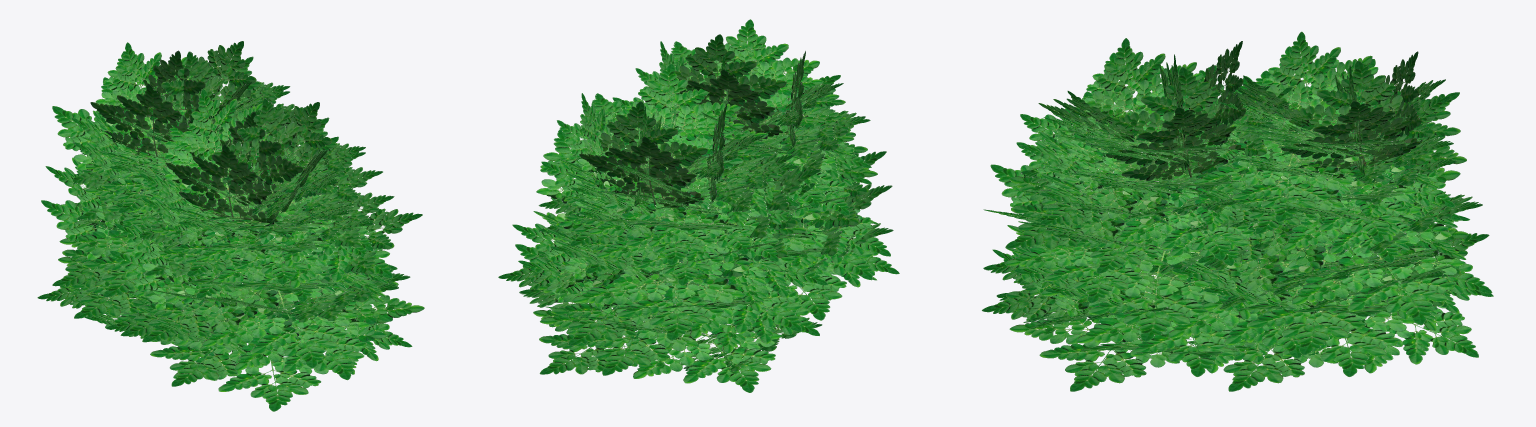
File: buisson_3_2.FBX
3 views of the same model, side by side, from view 1: azimuth 30°, elevation 25°; view 2: azimuth 150°, elevation 25°; view 3: azimuth 270°, elevation 25° (orthographic). The views are drawn at different scales.
Visible parts, largest first — view 1: Plane2058; view 2: Plane2058; view 3: Plane2058.
Boxes of the visible parts, bbox=[...] form: Plane2058: bbox=[37, 41, 424, 411]; Plane2058: bbox=[498, 19, 899, 392]; Plane2058: bbox=[982, 31, 1493, 391].
Size of the model in its own units: 170 by 143 by 237.
1 material, 1 textured.
